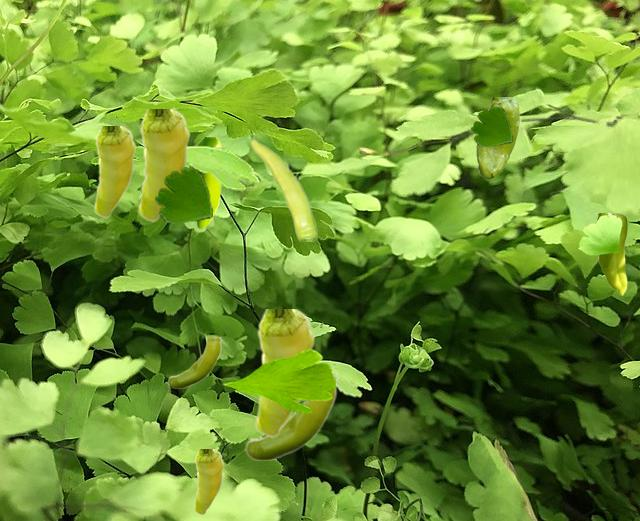green_chili: (244, 373, 337, 459), (254, 309, 314, 437), (250, 138, 316, 240), (137, 109, 189, 221), (93, 126, 135, 217), (476, 97, 518, 178), (167, 337, 221, 387), (595, 213, 626, 294), (195, 137, 222, 228), (193, 449, 223, 514)
